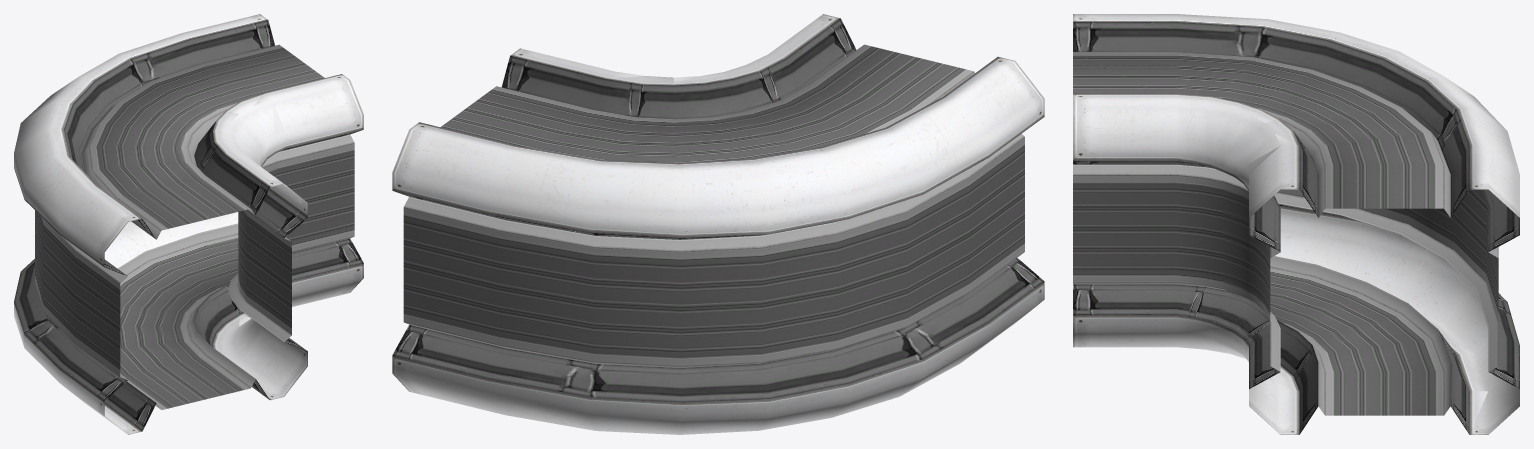
File: CeilingBrace_CornerInner.FBX
3 renders of one model, left to right at view 1: azimuth 30°, elevation 25°; view 2: azimuth 150°, elevation 25°; view 3: azimuth 270°, elevation 25°, orthographic. The views are drawn at different scales.
Parts seen in each view (by area): view 1: CeilingBrace_CornerInner; view 2: CeilingBrace_CornerInner; view 3: CeilingBrace_CornerInner.
Part boxes in pixels (x1,y1,x2,y2): CeilingBrace_CornerInner: (14,14,363,434); CeilingBrace_CornerInner: (392,14,1044,434); CeilingBrace_CornerInner: (1073,14,1519,434).
Size of the model in its own units: 2.15 by 1.3 by 2.15.
